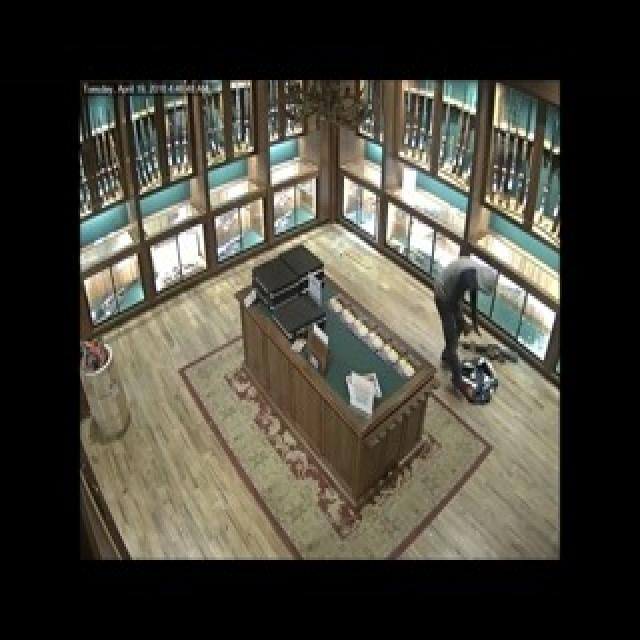thief: (414, 233, 502, 367)
